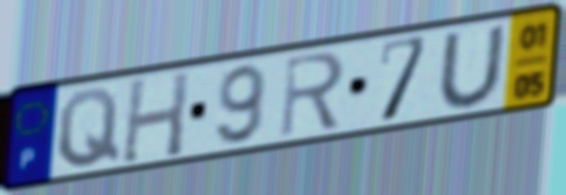7: (378, 33, 429, 124)
9: (213, 61, 271, 147)
H: (118, 68, 193, 167)
Q: (55, 85, 123, 171)
R: (277, 48, 348, 141)
U: (435, 21, 509, 110)
